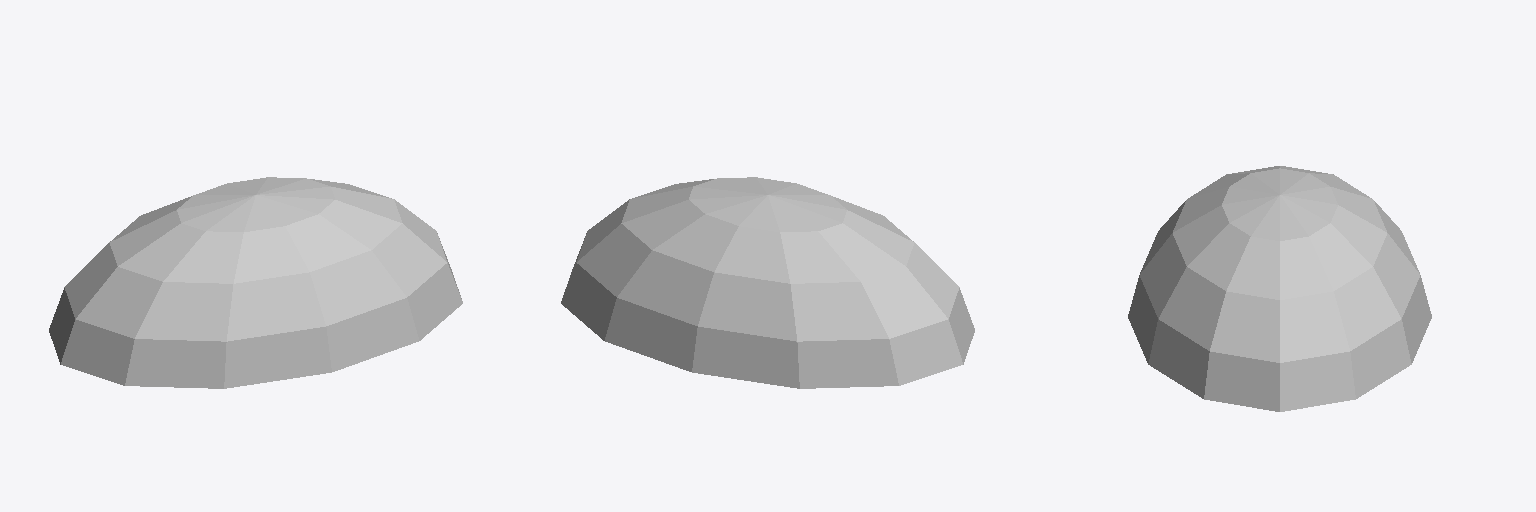
Rendered from hand.obj.
3 views of the same model, side by side, from view 1: azimuth 30°, elevation 25°; view 2: azimuth 150°, elevation 25°; view 3: azimuth 270°, elevation 25° (orthographic).
Parts seen in each view (by area): view 1: dummy_hips3_dummy_belly_dummy_torso_dummy_lshoulder_dummy_l.001; view 2: dummy_hips3_dummy_belly_dummy_torso_dummy_lshoulder_dummy_l.001; view 3: dummy_hips3_dummy_belly_dummy_torso_dummy_lshoulder_dummy_l.001.
Part boxes in pixels (x1,y1,x2,y2): dummy_hips3_dummy_belly_dummy_torso_dummy_lshoulder_dummy_l.001: (49, 177, 462, 388); dummy_hips3_dummy_belly_dummy_torso_dummy_lshoulder_dummy_l.001: (561, 177, 974, 388); dummy_hips3_dummy_belly_dummy_torso_dummy_lshoulder_dummy_l.001: (1128, 166, 1431, 411).
Size of the model in its own units: 14.72 by 4.39 by 9.93.